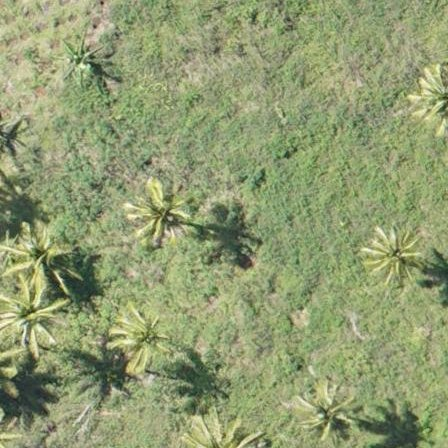palm_tree: (1, 229, 78, 301), (123, 181, 191, 247), (293, 383, 365, 442), (1, 291, 67, 352), (106, 307, 171, 366), (363, 225, 423, 280)
